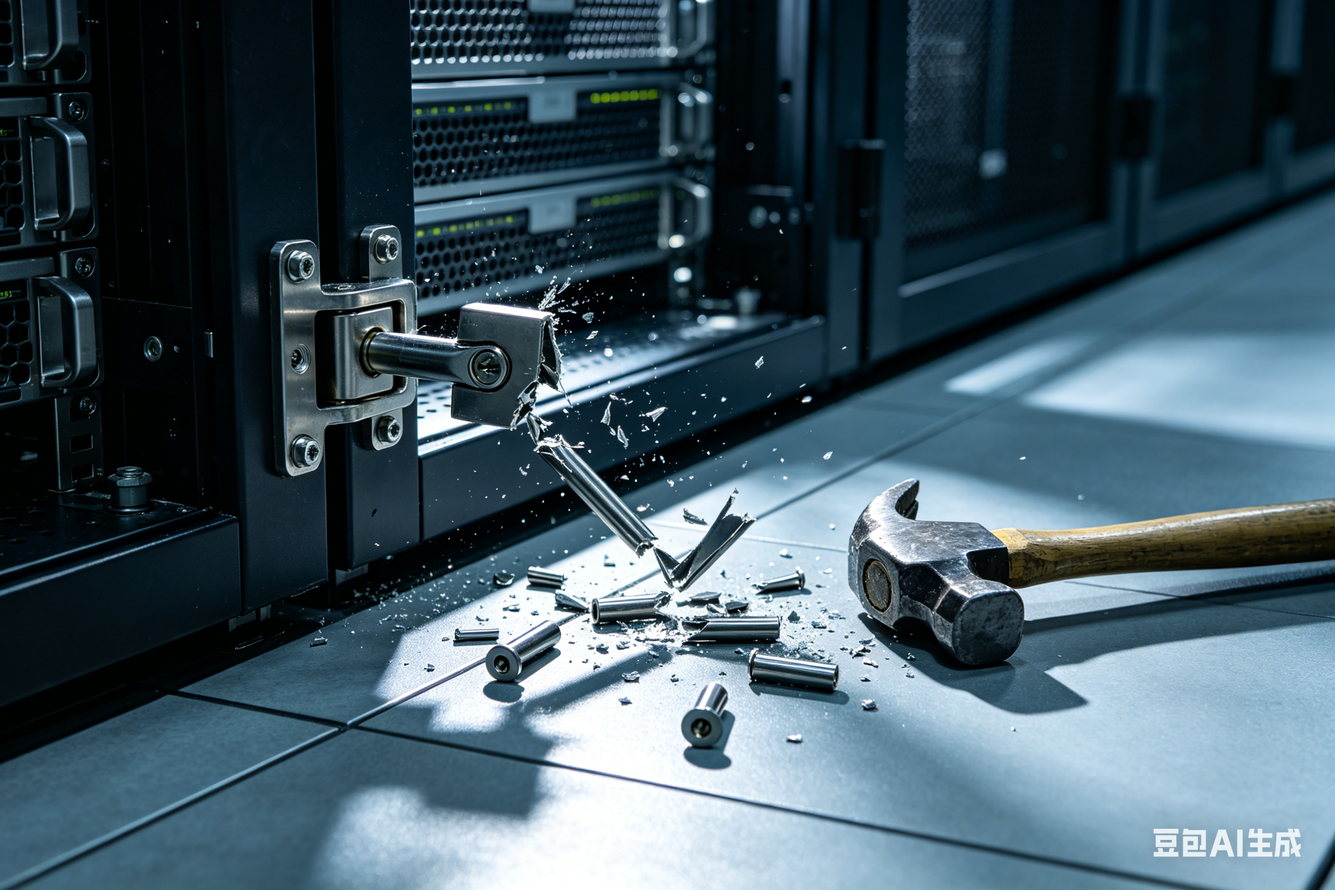BadLock: (462, 314, 652, 457)
